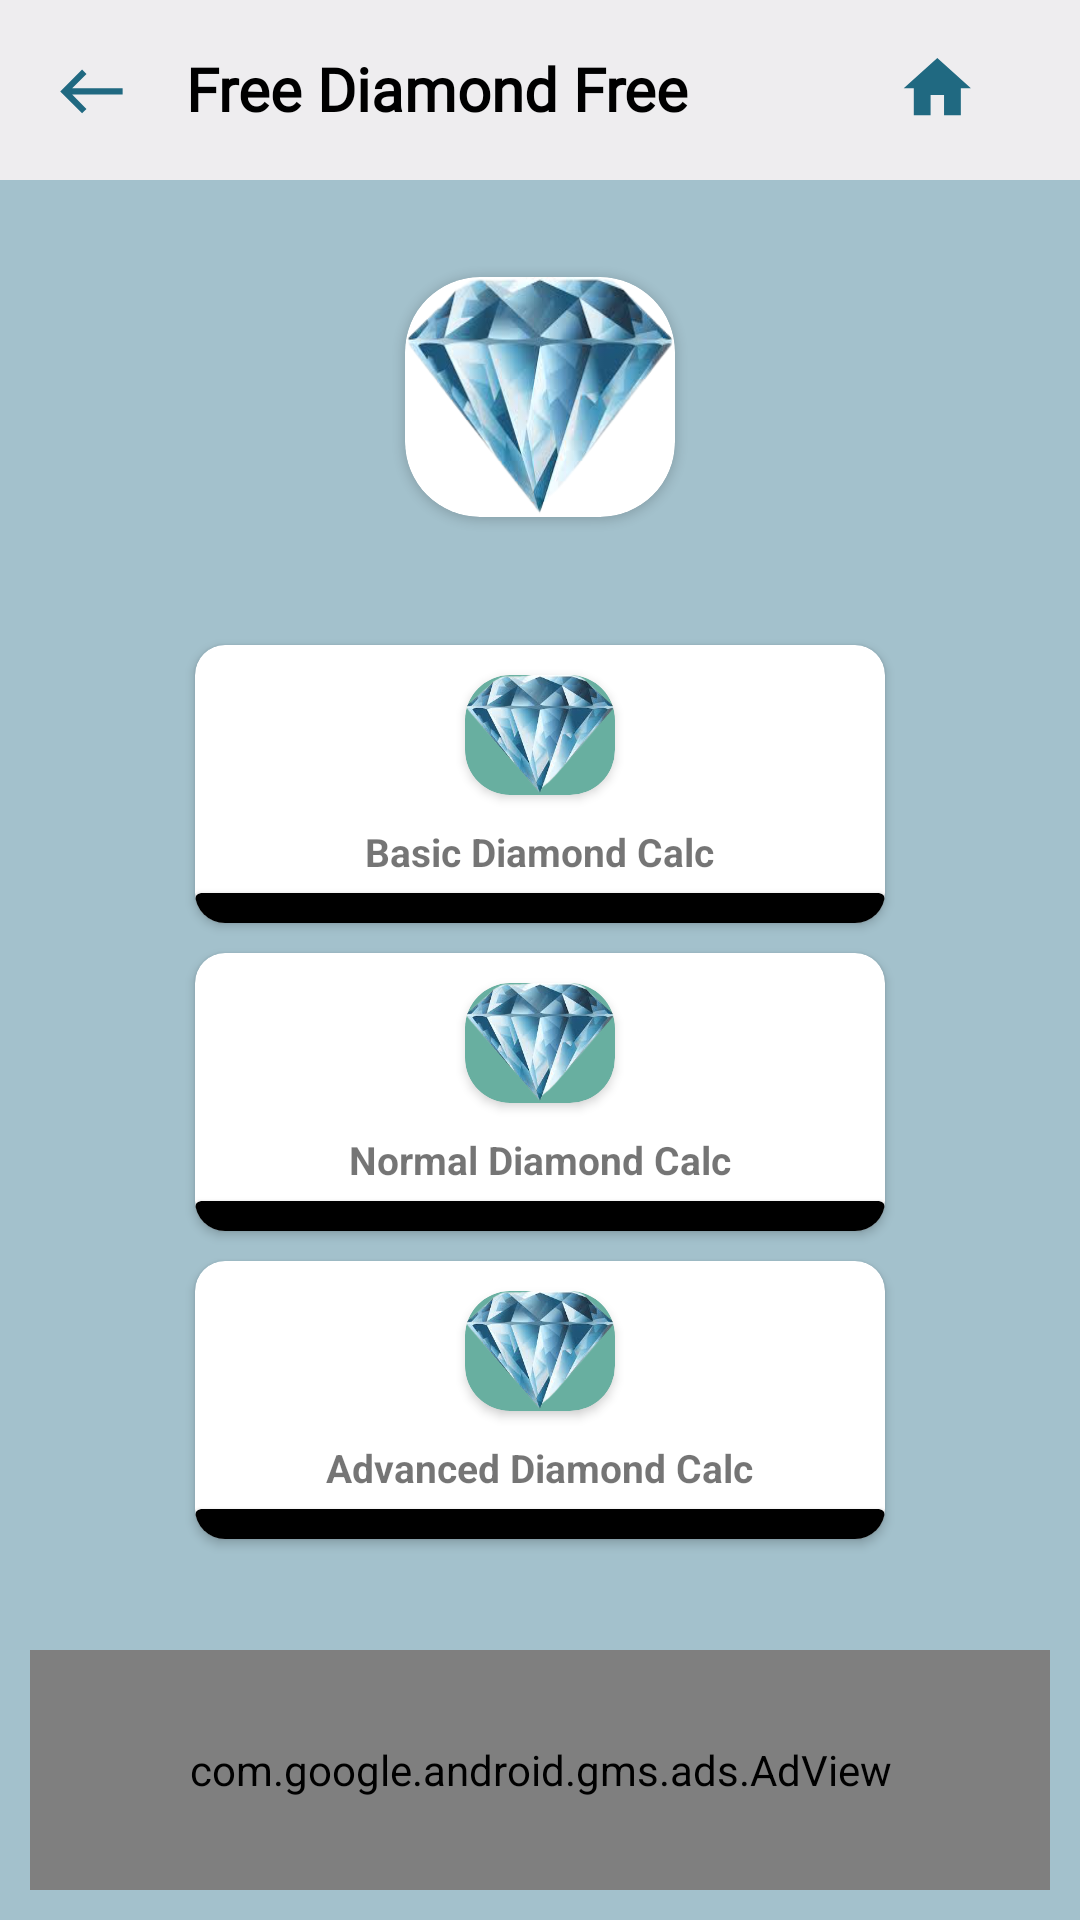

Named icons in this screenshot (1080px×1920px) and their centers, (x=x, y=y):
back: (x=91, y=91)
home: (x=937, y=87)
